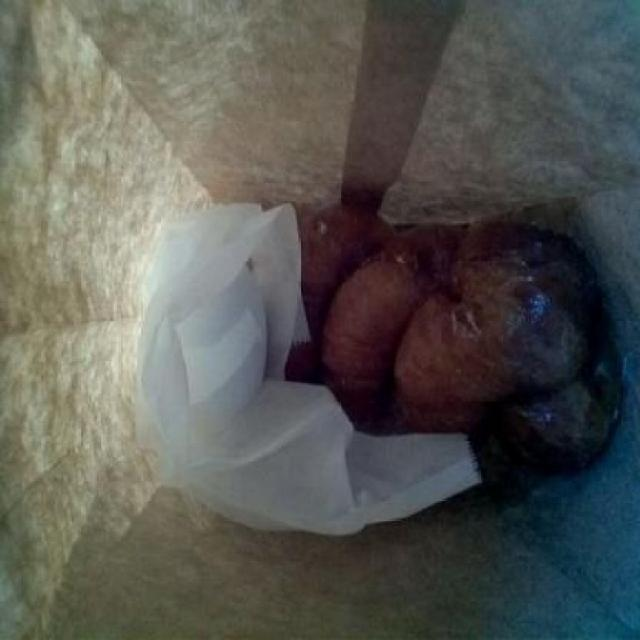Donuts: (272, 193, 638, 622)
